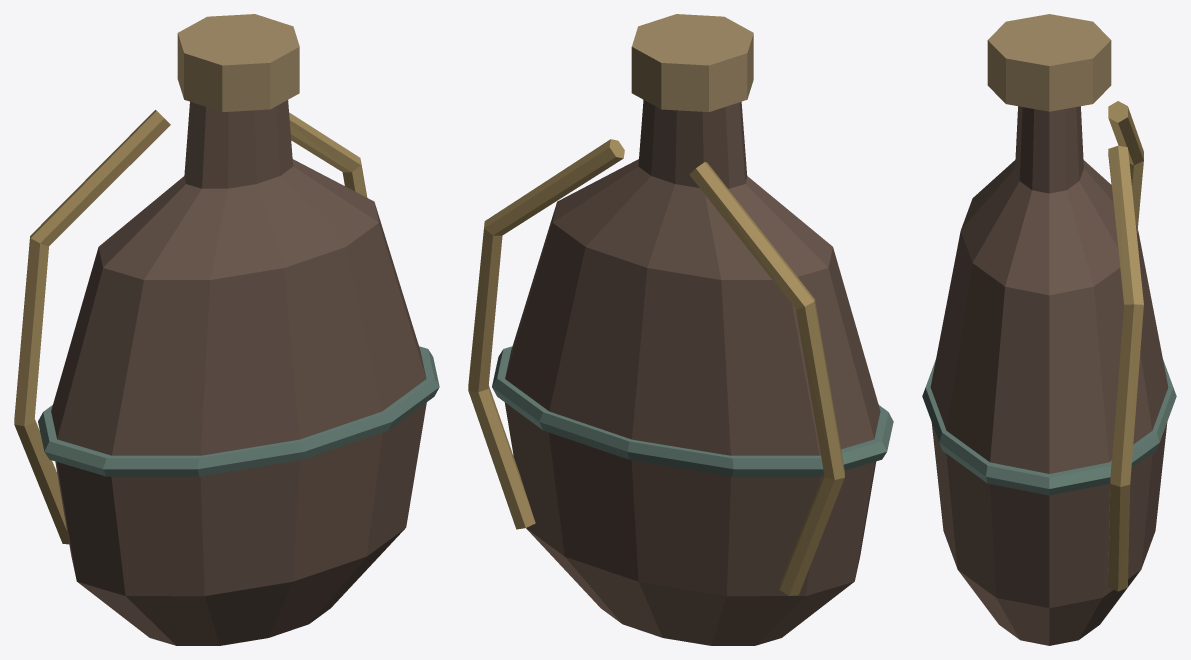
Rendered from SWP_LeatherFlask.fbx.
3 renders of one model, left to right at view 1: azimuth 30°, elevation 25°; view 2: azimuth 150°, elevation 25°; view 3: azimuth 270°, elevation 25°, orthographic. The views are drawn at different scales.
Visible parts, largest first — view 1: SWP_LeatherFlask; view 2: SWP_LeatherFlask; view 3: SWP_LeatherFlask.
Boxes of the visible parts, bbox=[...] form: SWP_LeatherFlask: bbox=[14, 14, 439, 645]; SWP_LeatherFlask: bbox=[468, 14, 893, 645]; SWP_LeatherFlask: bbox=[922, 14, 1176, 645].
Size of the model in its own units: 0.192 by 0.272 by 0.1114.
